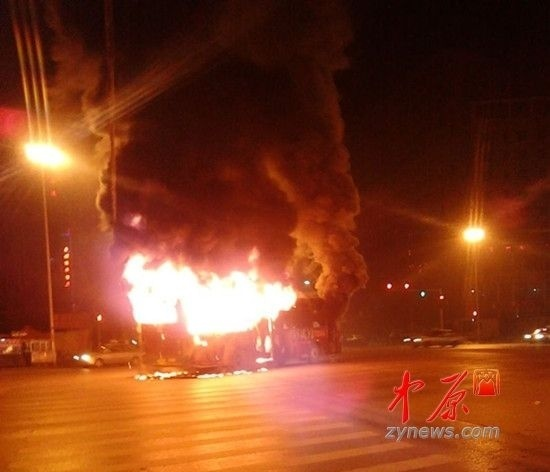fire: (125, 246, 299, 336), (23, 135, 70, 165)
